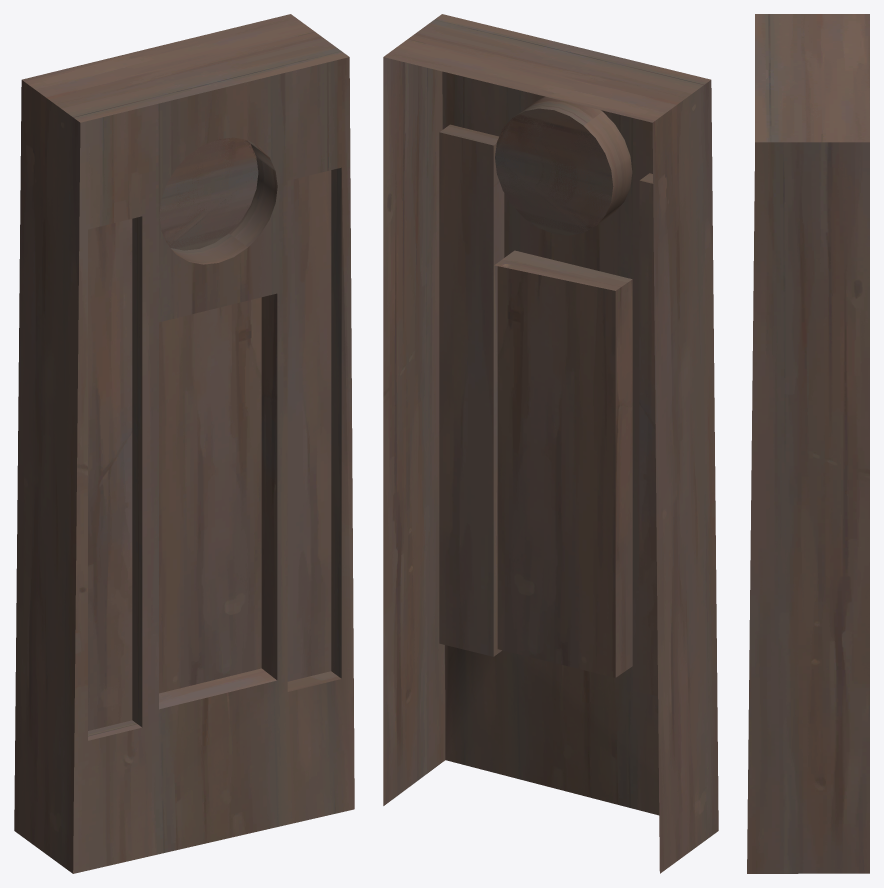
File: Reloj.obj
3 renders of one model, left to right at view 1: azimuth 30°, elevation 25°; view 2: azimuth 150°, elevation 25°; view 3: azimuth 270°, elevation 25°, orthographic. The views are drawn at different scales.
Visible parts, largest first — view 1: polySurface8; view 2: polySurface8; view 3: polySurface8.
Part boxes in pixels (box(x1,y1,x2,y2)): polySurface8: box(14, 14, 354, 873); polySurface8: box(383, 14, 718, 873); polySurface8: box(747, 14, 869, 873).
Bounding box in the file's own units: 3.29 × 8.49 × 1.29.
1 material, 1 textured.
